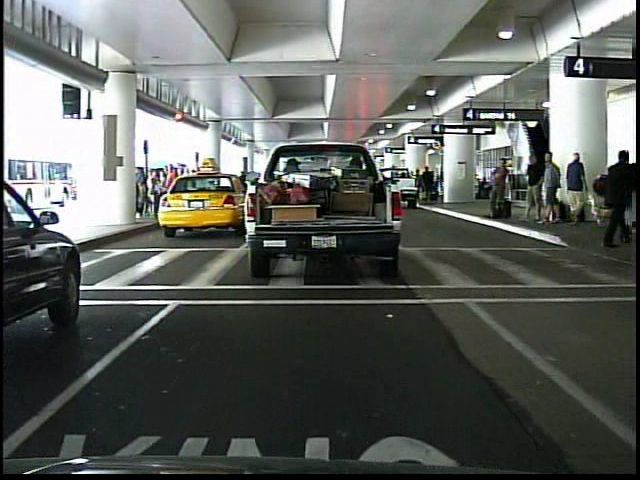person: (595, 146, 635, 249), (561, 149, 588, 227)
